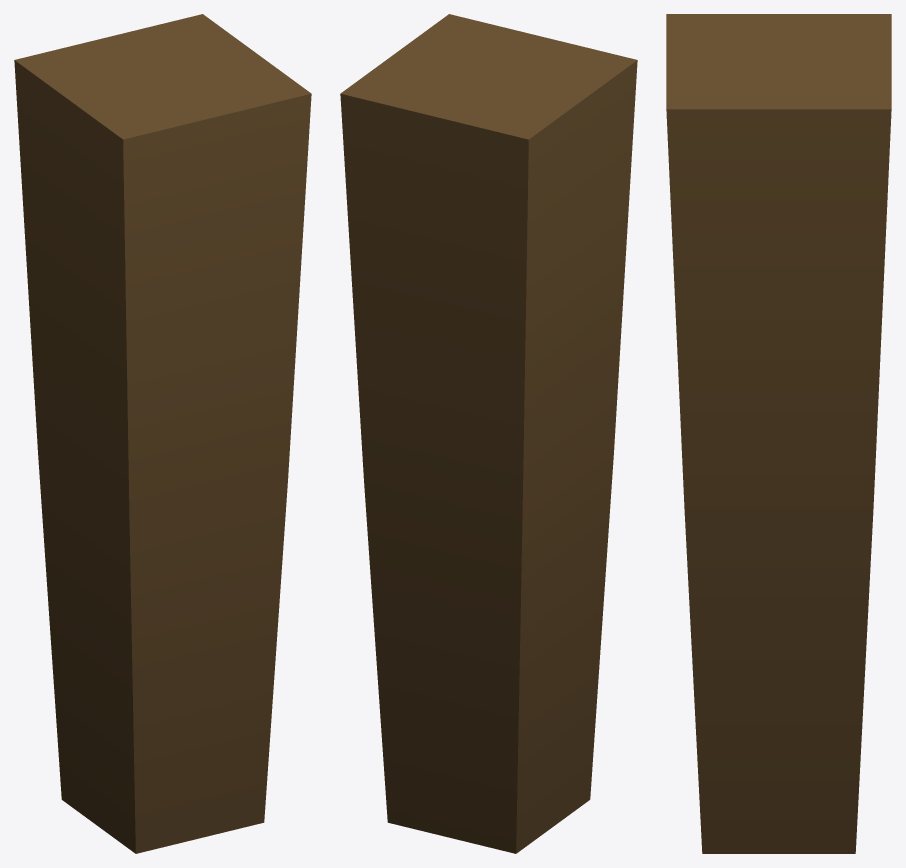
Rendered from Fence_03.fbx.
3 views of the same model, side by side, from view 1: azimuth 30°, elevation 25°; view 2: azimuth 150°, elevation 25°; view 3: azimuth 270°, elevation 25° (orthographic). The views are drawn at different scales.
Parts seen in each view (by area): view 1: Fence_03; view 2: Fence_03; view 3: Fence_03.
Part boxes in pixels (x1,y1,x2,y2): Fence_03: (14,14,311,853); Fence_03: (340,14,637,853); Fence_03: (666,14,891,853).
Bounding box in the file's own units: 0.2739 × 1.02 × 0.2739.
